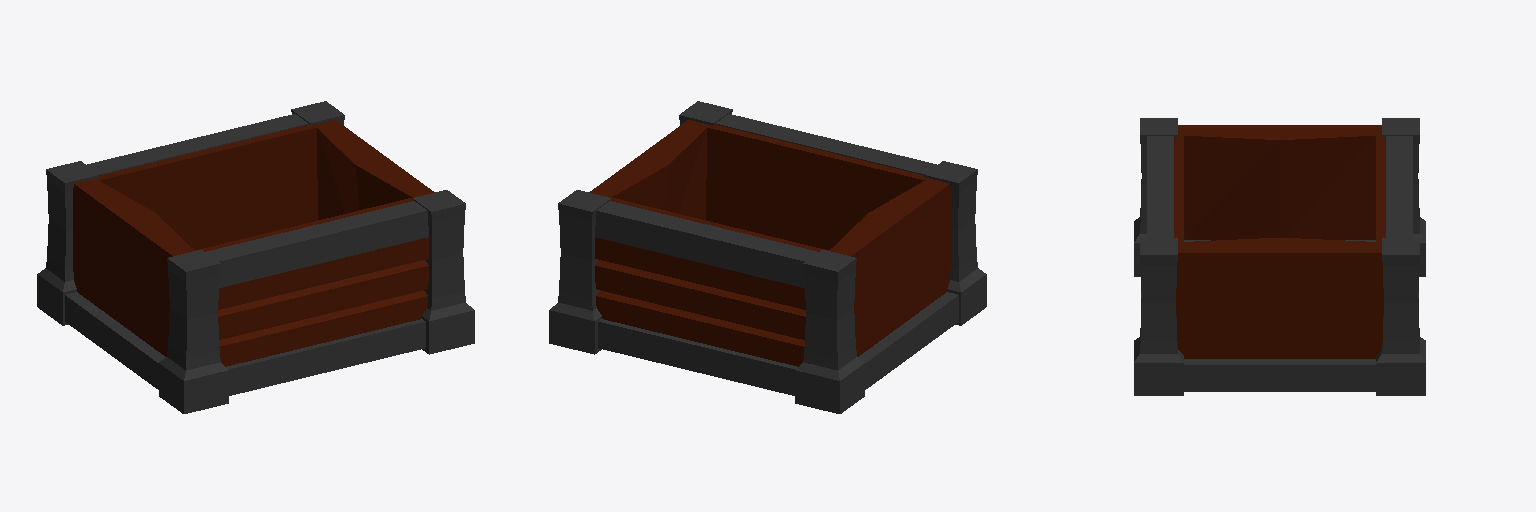
Rendered from Box_Bottom.obj.
3 views of the same model, side by side, from view 1: azimuth 30°, elevation 25°; view 2: azimuth 150°, elevation 25°; view 3: azimuth 270°, elevation 25° (orthographic).
Visible parts, largest first — view 1: Box_Bottom; view 2: Box_Bottom; view 3: Box_Bottom.
Part boxes in pixels (left/top/right/bottom): Box_Bottom: left=37, top=101, right=474, bottom=413; Box_Bottom: left=549, top=101, right=986, bottom=413; Box_Bottom: left=1134, top=118, right=1425, bottom=395.
Bounding box in the file's own units: 2.23 × 1.02 × 1.94.